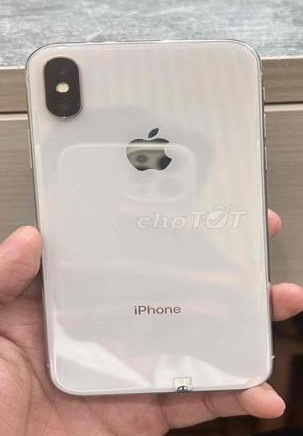scratch: (56, 113, 73, 123)
